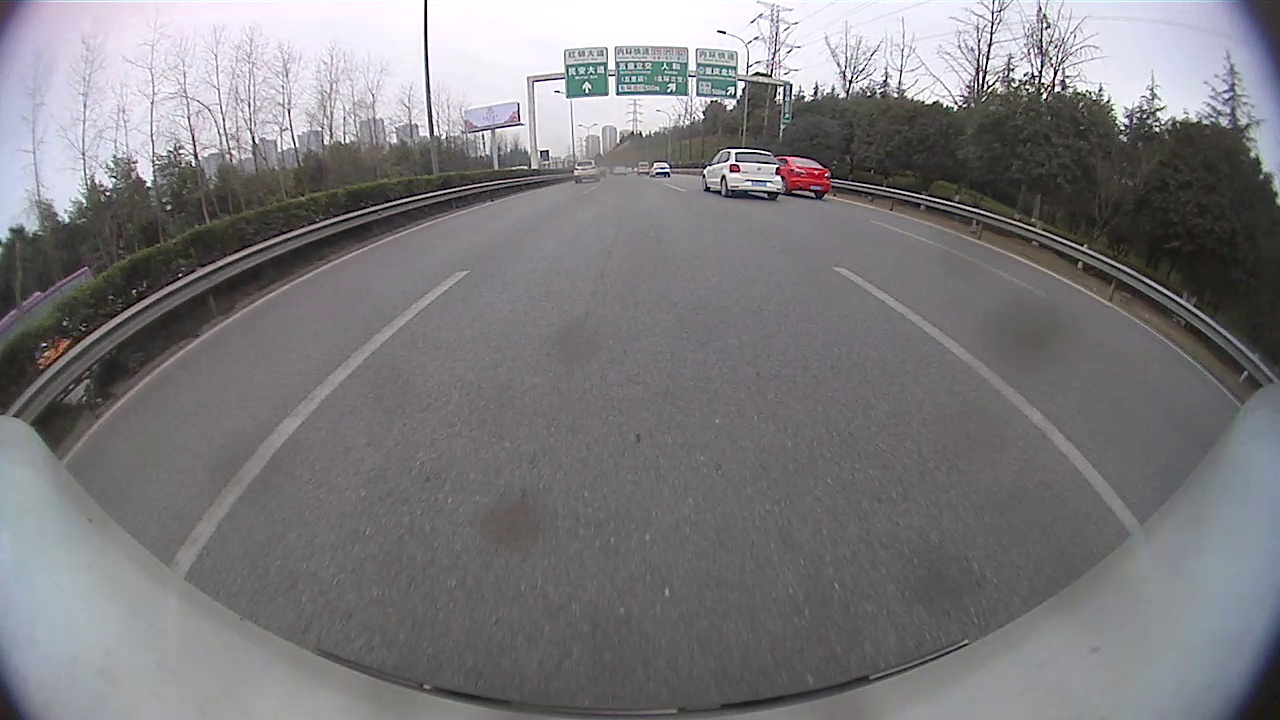car: (699, 147, 786, 200), (774, 156, 833, 201), (574, 159, 603, 183)
rear: (720, 180, 728, 198)
